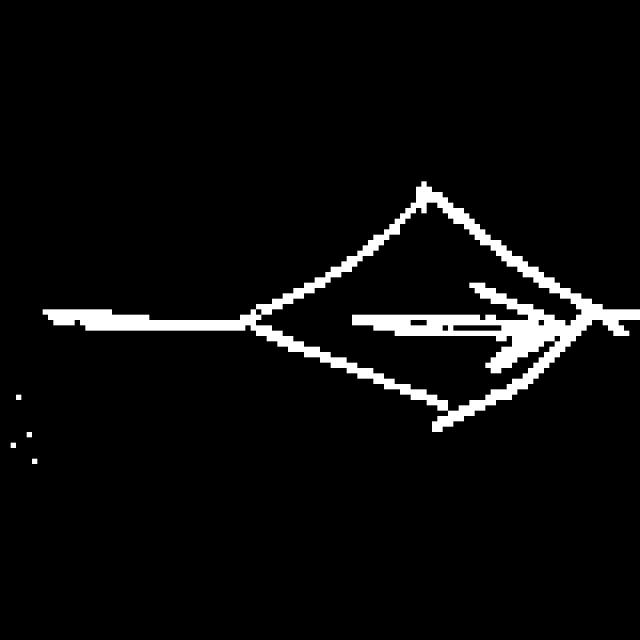dependant_current: (246, 176, 599, 450)
